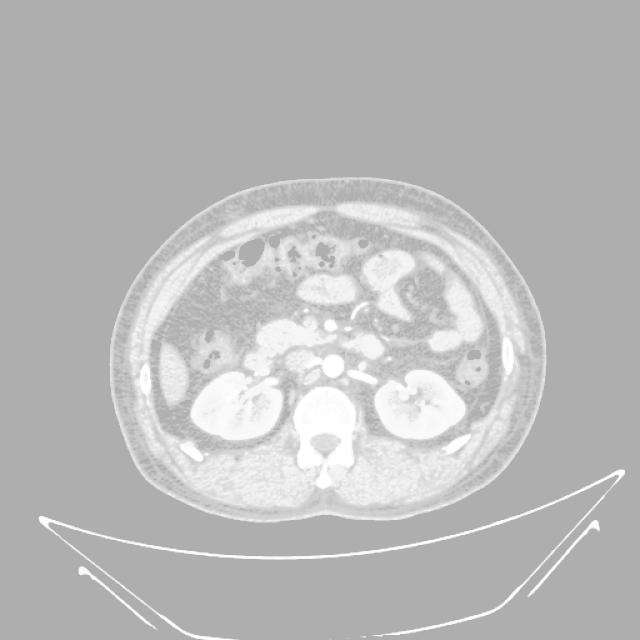NORMAL: (90, 131, 566, 640)
